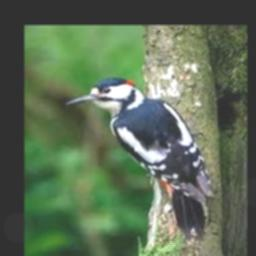Woodpecker: (66, 77, 213, 242)
